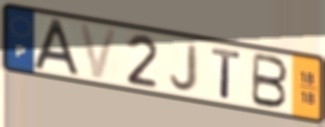2: (124, 33, 159, 91)
A: (30, 17, 83, 79)
B: (249, 50, 290, 110)
J: (168, 42, 201, 93)
T: (210, 46, 244, 102)
V: (77, 22, 120, 82)
